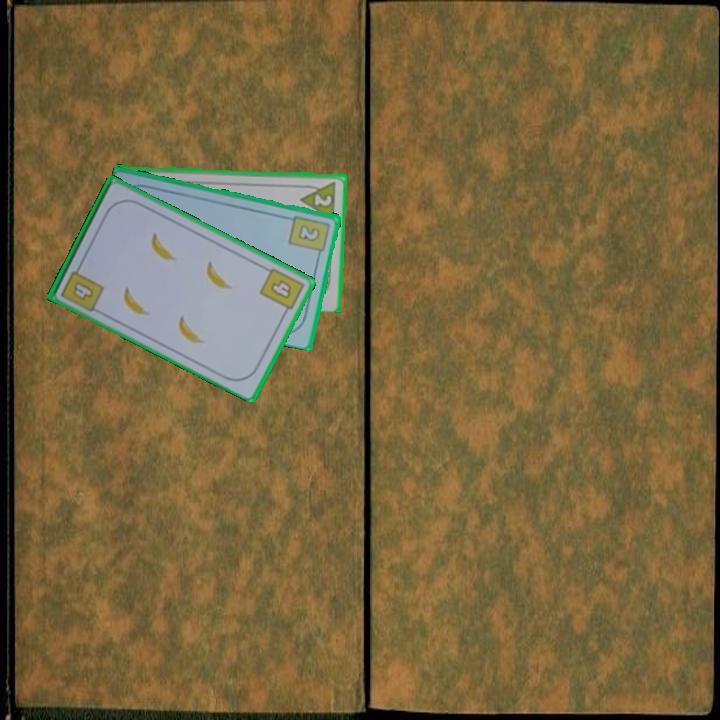2b: (286, 212, 333, 260)
2p: (298, 177, 339, 221)
4b: (256, 264, 307, 318), (57, 260, 107, 315)
